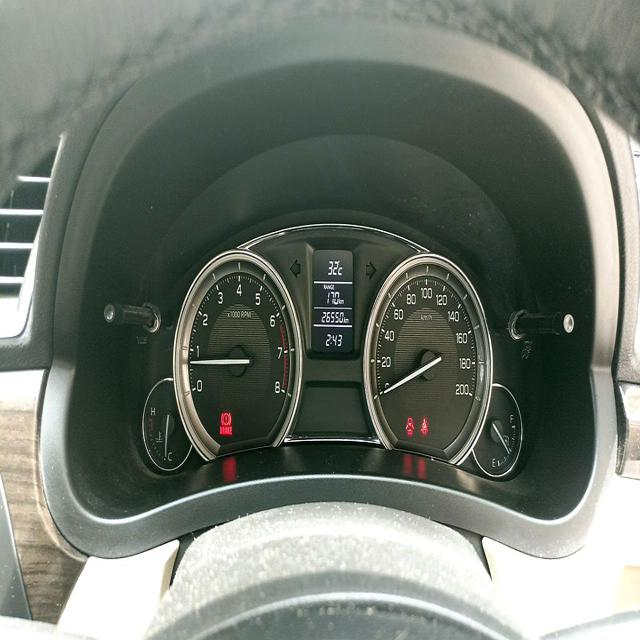odometer: (320, 307, 344, 325)
